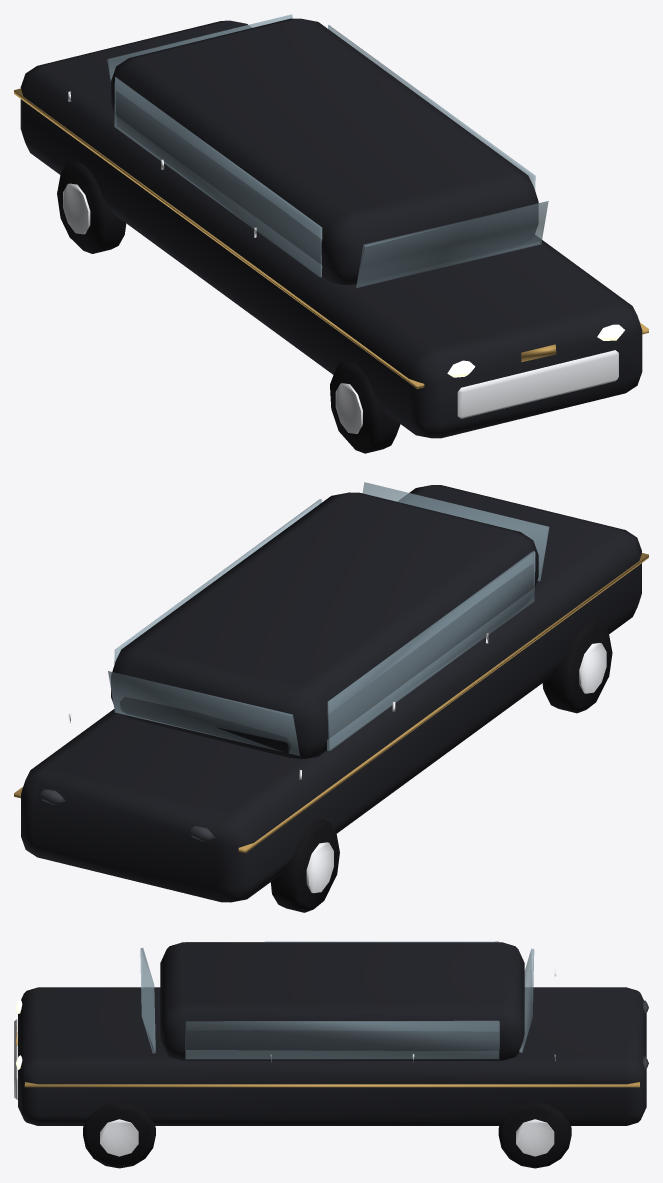
Rendered from limo_black.glb.
The picture shows the model from 3 angles, top to bottom: view 1: azimuth 30°, elevation 25°; view 2: azimuth 150°, elevation 25°; view 3: azimuth 270°, elevation 25°; orthographic projection. The views are drawn at different scales.
Parts seen in each view (by area): view 1: limo_black; view 2: limo_black; view 3: limo_black.
Part boxes in pixels (<box>): limo_black: <box>14,14,648,453</box>; limo_black: <box>14,482,648,912</box>; limo_black: <box>14,941,648,1168</box>.
Bounding box in the file's own units: 2.13 × 1.66 × 6.26.
